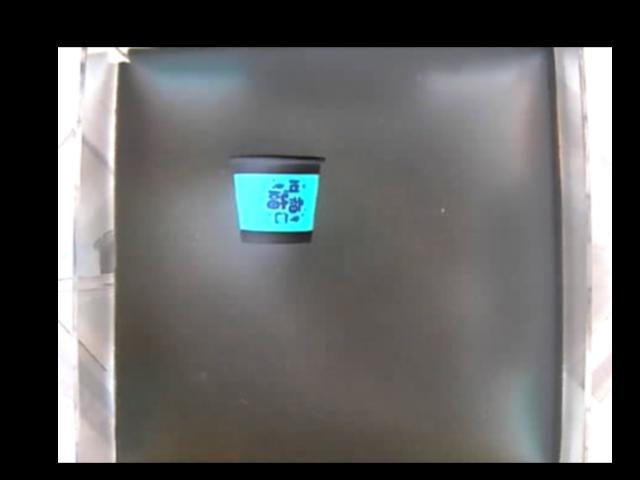Cup: (228, 149, 322, 246)
